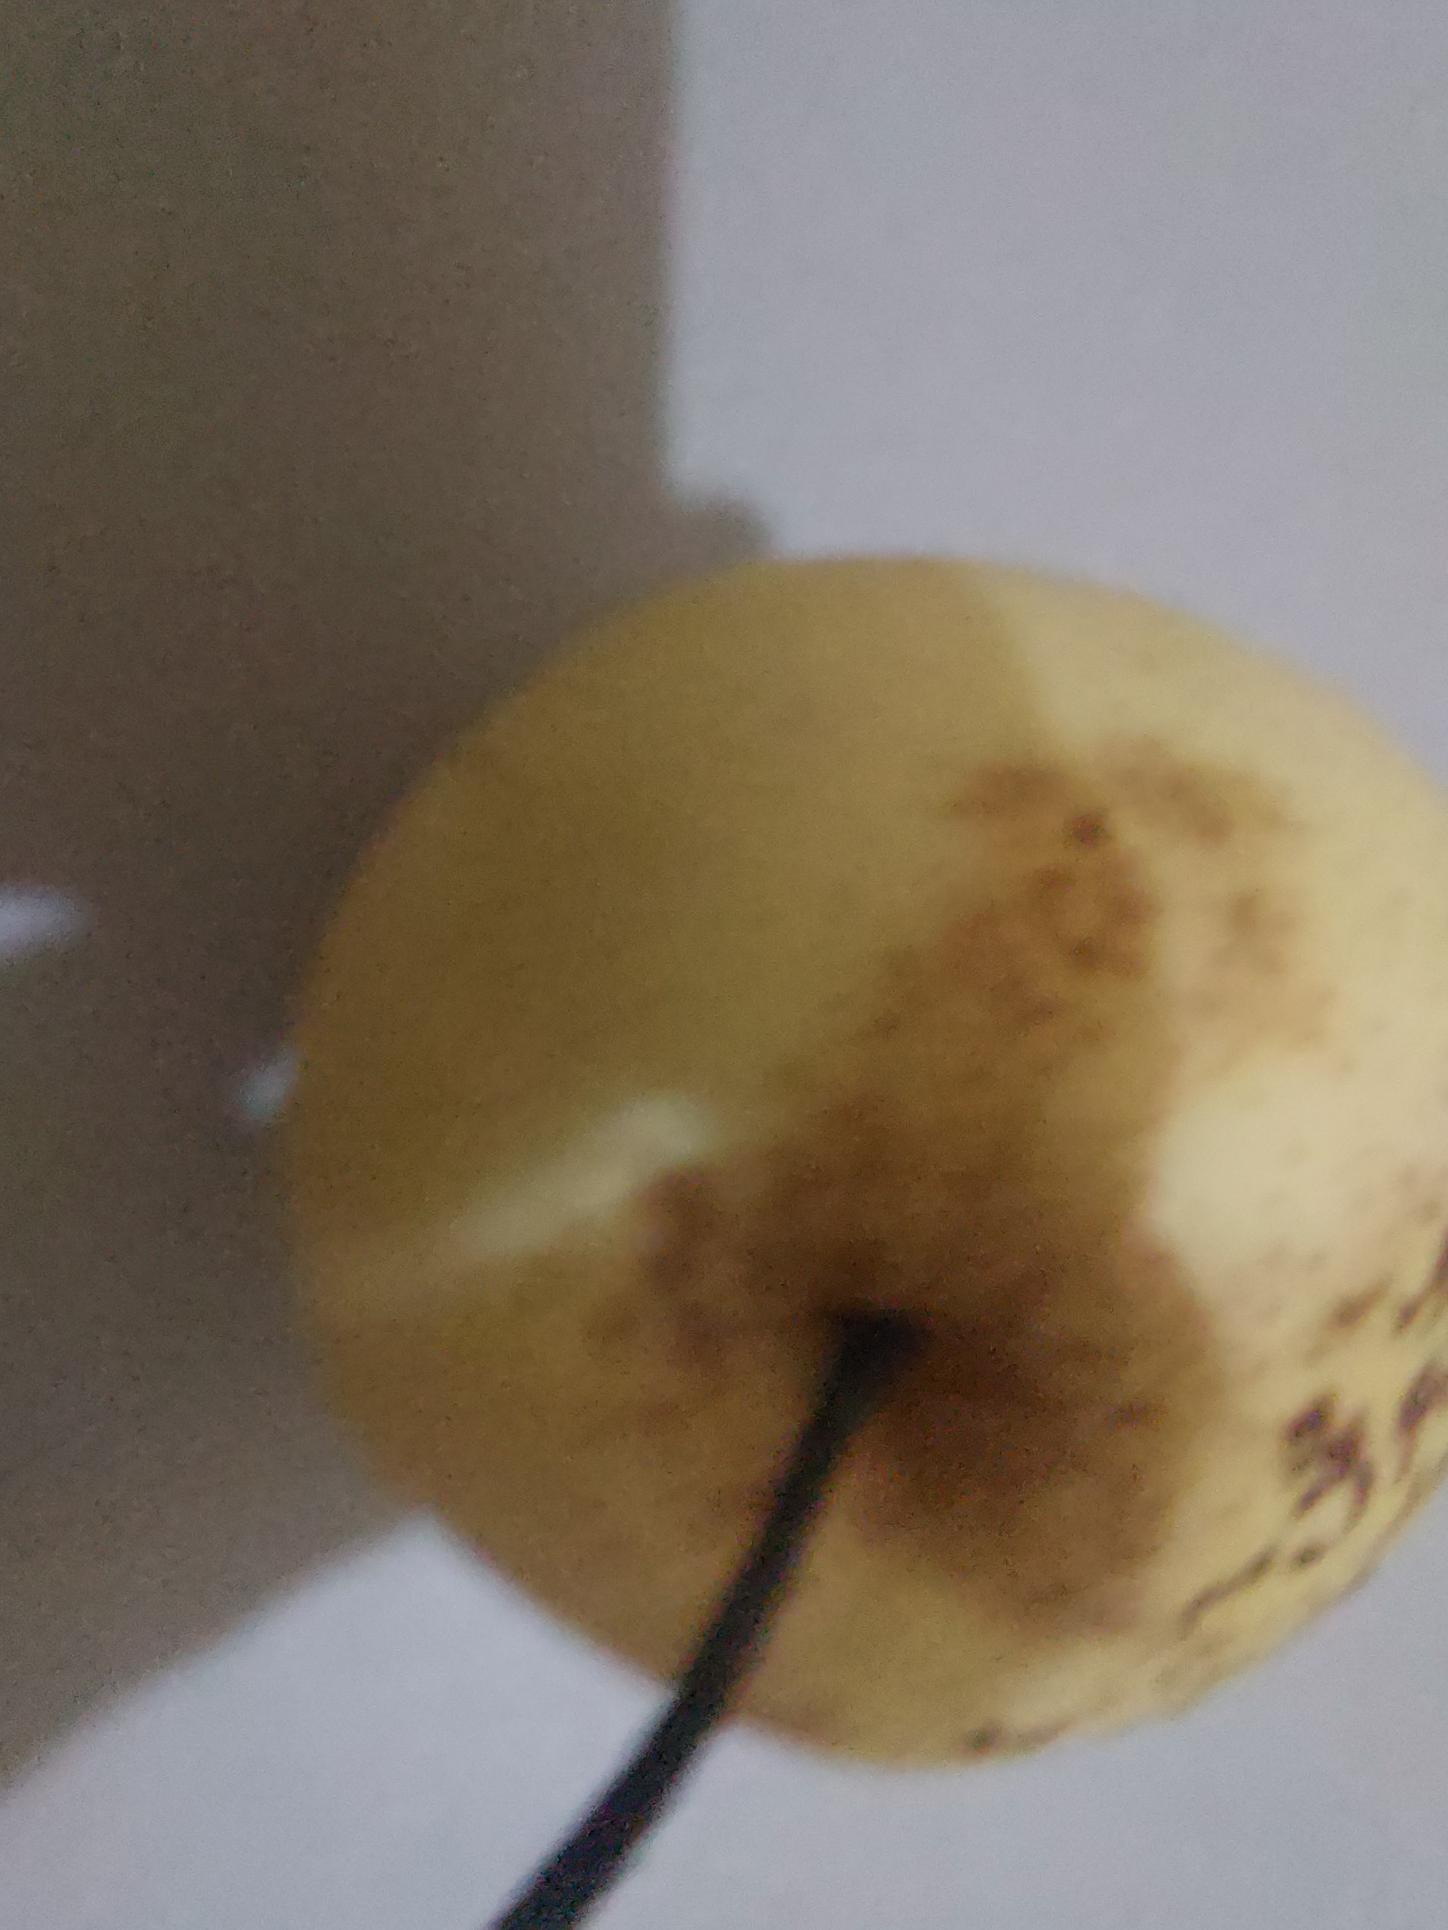Bad Pear: (262, 540, 1448, 1782)
